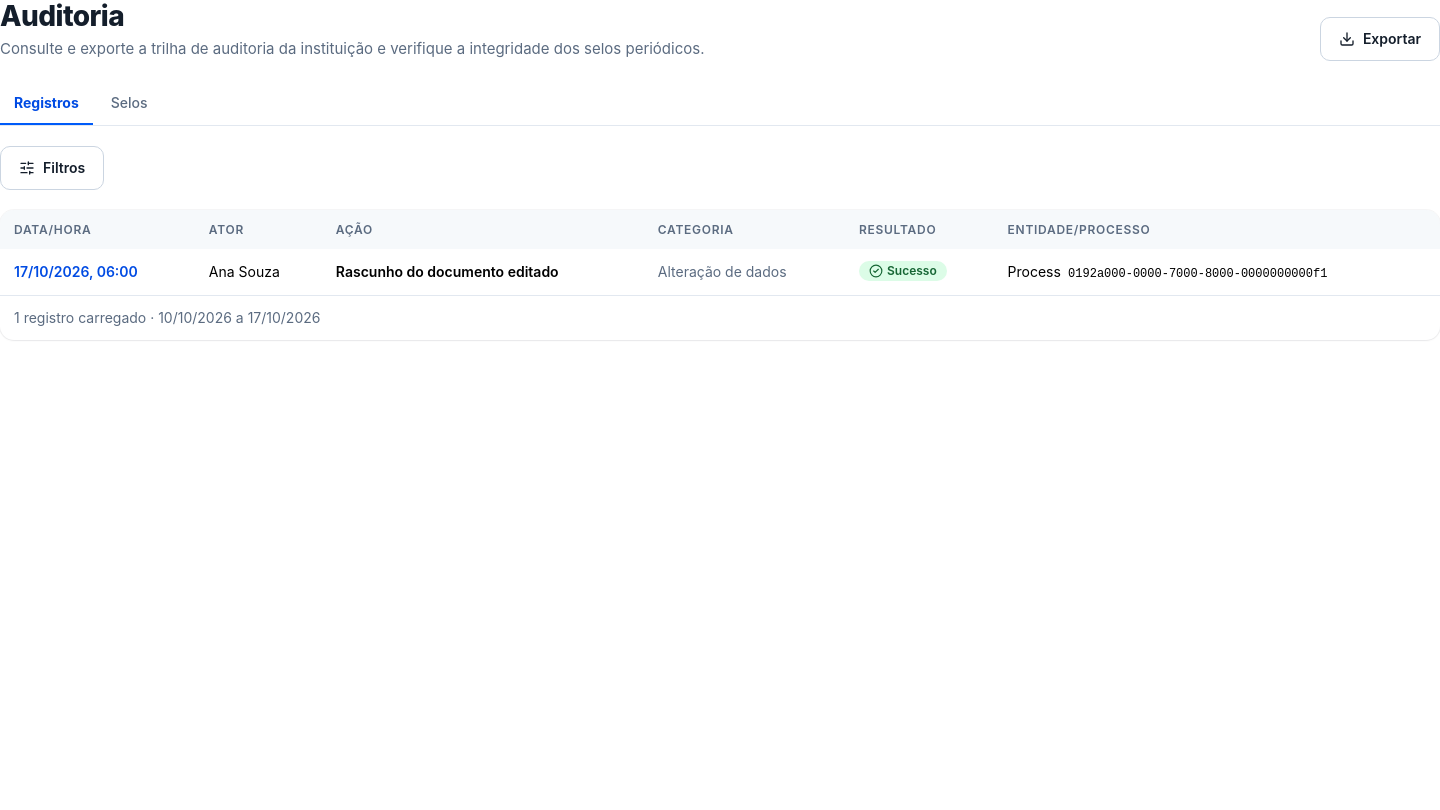
Test: [Sucesso] pesquisar e ver o detalhe (SCR-037 · AUD-01/AUD-02) › FA-05: registro coalescido com o intervalo de salvamentos no metadata mostra o aviso
The image size is (1440, 810).
expect the table named "Registros da trilha de auditoria" is shown: met, box [0, 210, 1439, 295]
Click the button named "Ver detalhe: Rascunho do documento editado": (76, 272) [14, 262, 138, 282]
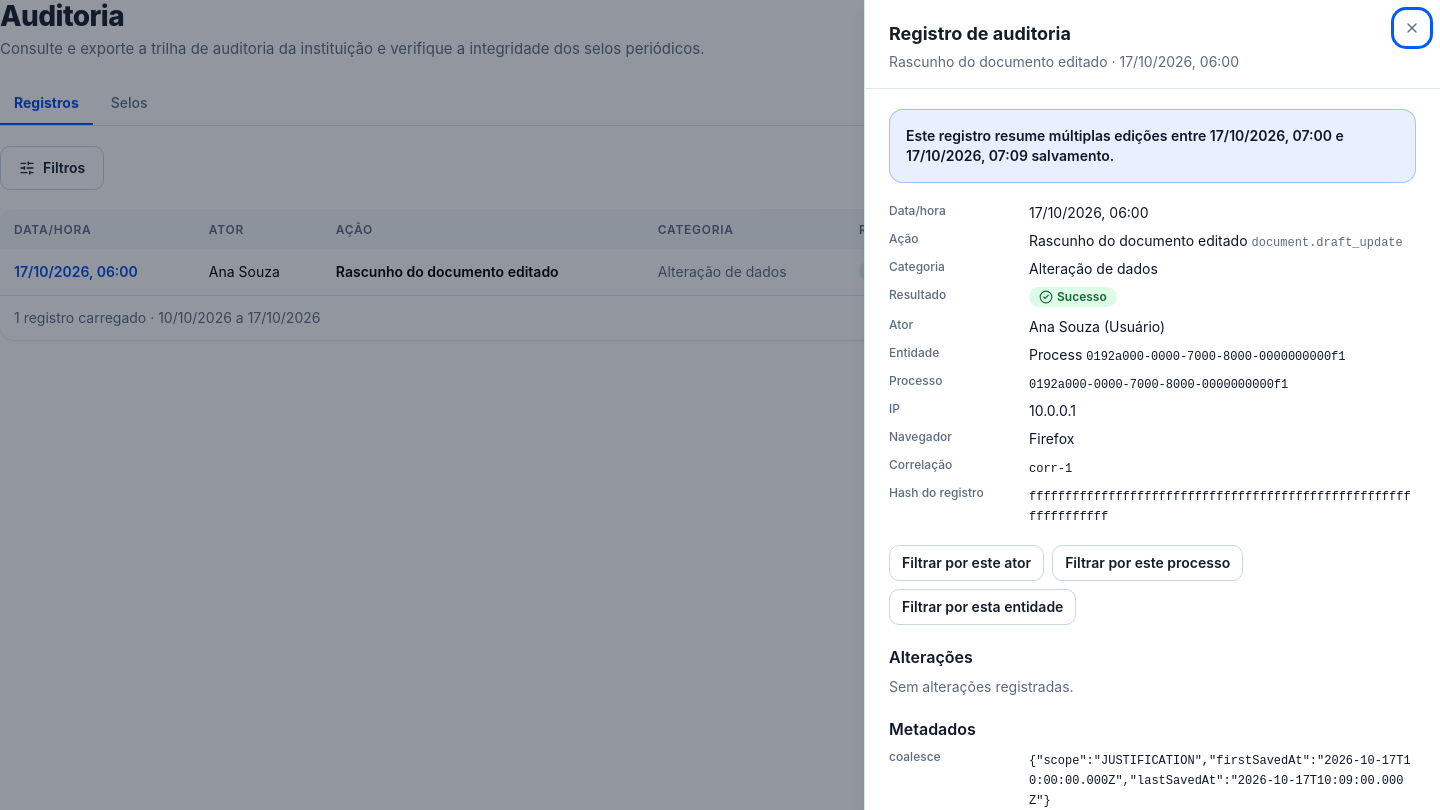
expect the text "Este registro resume múltiplas edições entre 17/10/2026, 07:00 e 17/10/2026, 07:09 salvamento." is shown: met, box [906, 127, 1344, 164]
